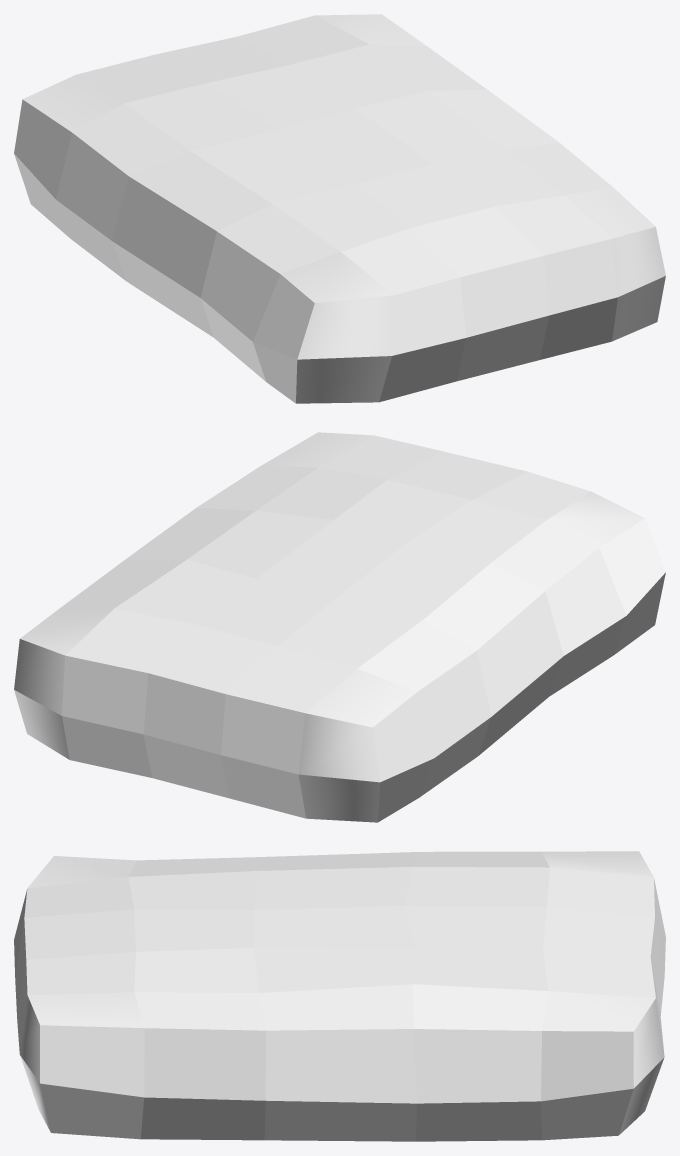
The model's file is Cement_bag 1.fbx.
The picture shows the model from 3 angles, top to bottom: view 1: azimuth 30°, elevation 25°; view 2: azimuth 150°, elevation 25°; view 3: azimuth 270°, elevation 25°; orthographic projection. The views are drawn at different scales.
Visible parts, largest first — view 1: Cement_Bag; view 2: Cement_Bag; view 3: Cement_Bag.
Boxes of the visible parts, left/top/right/bottom form: Cement_Bag: left=14, top=14, right=665, bottom=403; Cement_Bag: left=14, top=432, right=665, bottom=822; Cement_Bag: left=14, top=851, right=665, bottom=1141.
Size of the model in its own units: 36.58 by 11.66 by 51.56.
